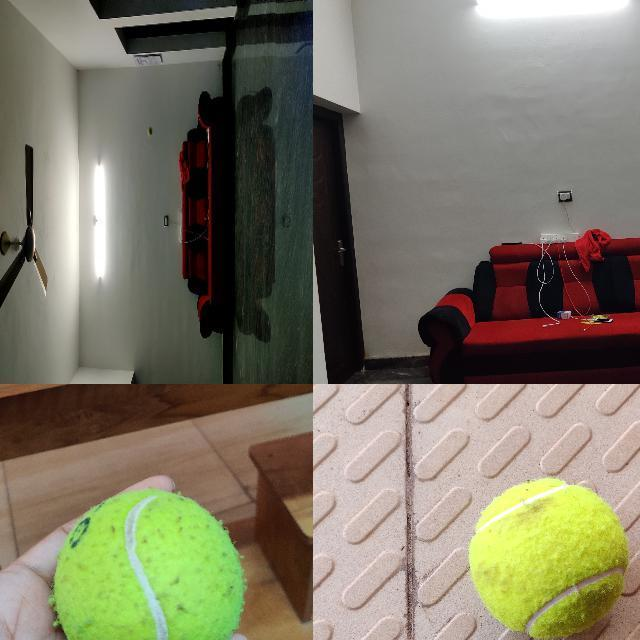tennis-ball: (52, 489, 245, 639), (468, 478, 628, 638), (148, 126, 152, 135)
